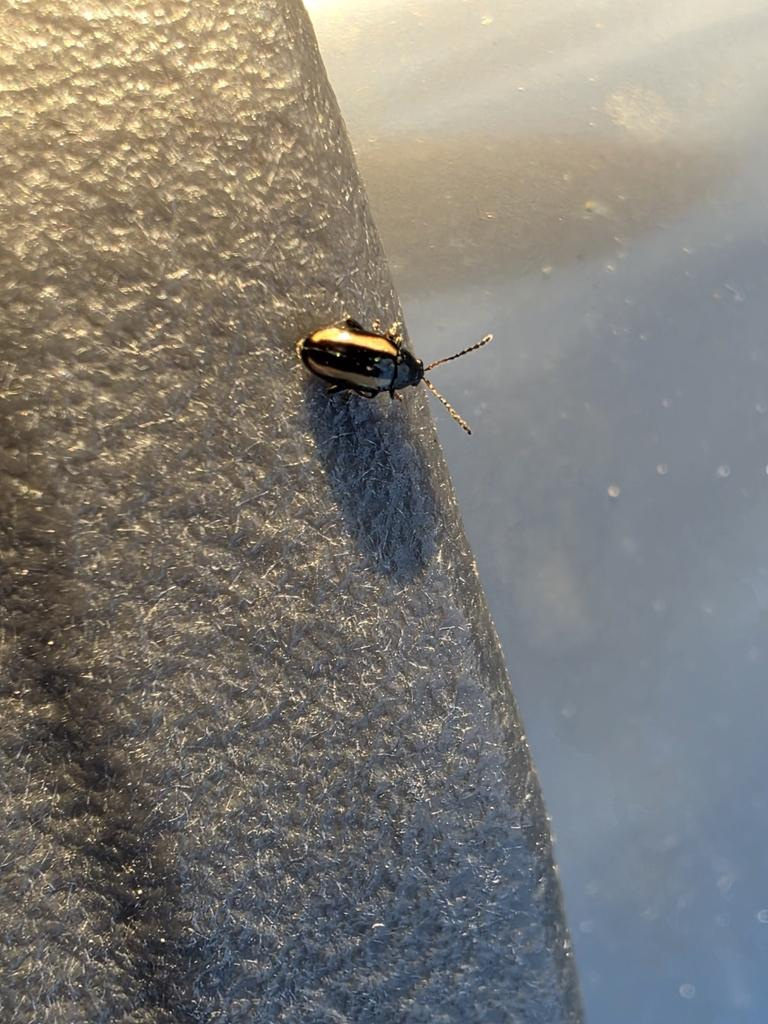flea_beetle: (256, 263, 502, 467)
